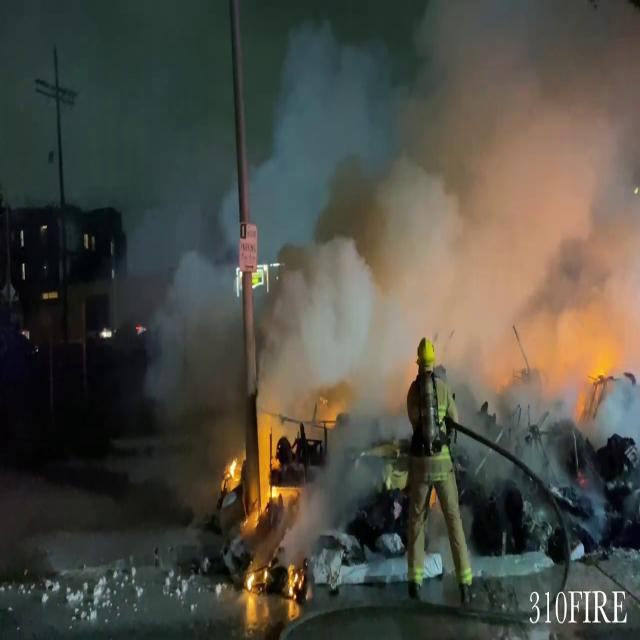Smoke: (261, 0, 640, 429), (133, 188, 290, 414)
